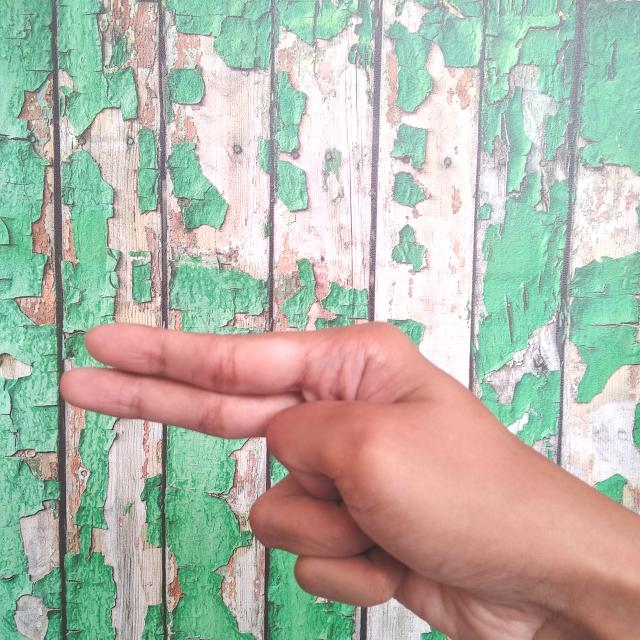H: (53, 313, 639, 640), (55, 320, 640, 640)
